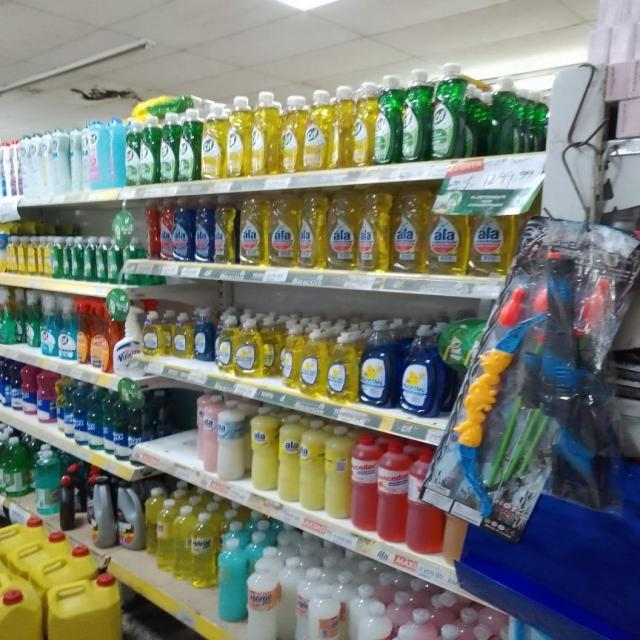ala_conc_amarillo: (470, 188, 516, 276), (426, 187, 468, 276), (391, 189, 423, 274), (357, 190, 389, 272), (326, 190, 356, 271), (297, 193, 325, 269), (268, 194, 296, 268), (238, 195, 266, 266), (214, 195, 236, 265)
ala_conc_azul: (172, 197, 192, 263), (194, 195, 213, 264)
ala_conc_rojo: (158, 197, 172, 262), (148, 198, 157, 261)
ala_crem_amarillo: (324, 424, 350, 522), (248, 406, 276, 494), (299, 419, 324, 513), (277, 414, 299, 506)
ala_crem_rosado: (196, 392, 217, 476), (429, 623, 466, 640)
cif_conc_bot_amarilla: (304, 89, 331, 172), (352, 81, 373, 167), (281, 94, 303, 174)
heroe: (244, 560, 279, 640), (190, 511, 217, 588)
magistral_con_amarillo: (234, 317, 266, 379)
magistral_con_azul: (399, 323, 442, 418)
vencedor: (378, 442, 408, 545), (351, 432, 377, 534)
